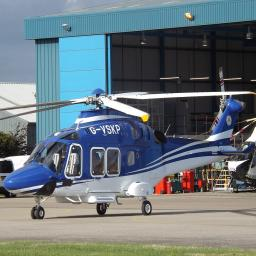helicopter: (5, 71, 249, 212)
